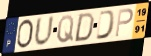D: (73, 11, 96, 43), (95, 9, 117, 41)
O: (15, 18, 34, 50)
P: (114, 7, 134, 38)
Q: (56, 14, 75, 45)
U: (33, 14, 56, 48)
